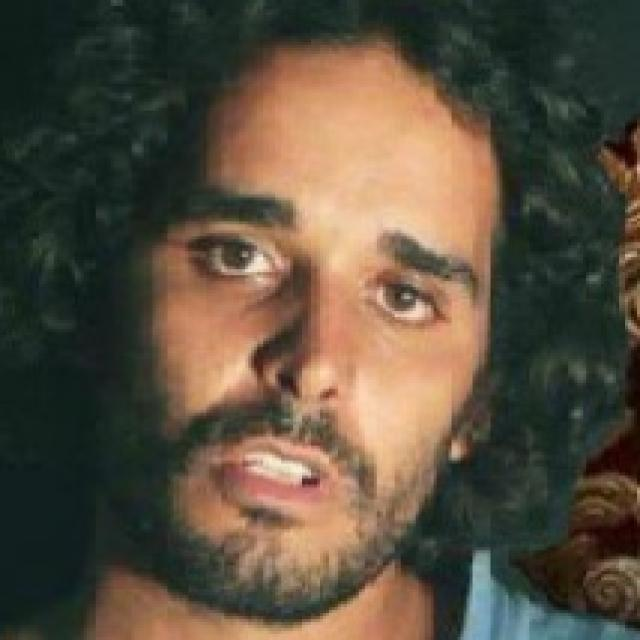Depress: (103, 37, 500, 625)
